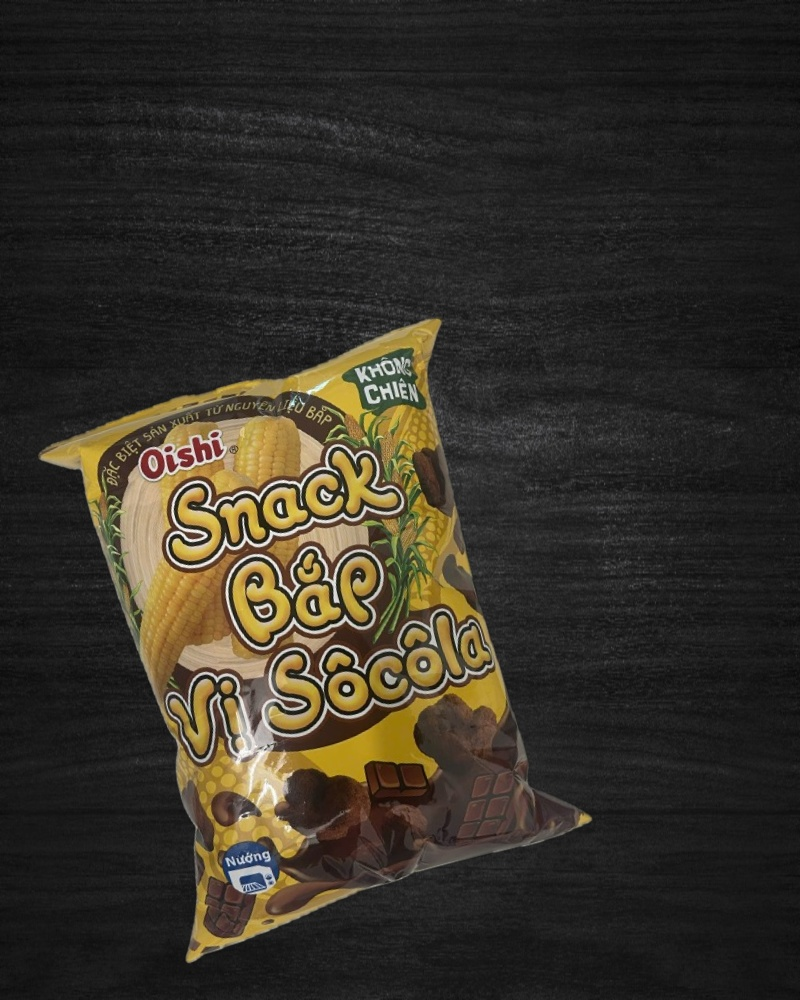Snack socola: (33, 315, 600, 955)
